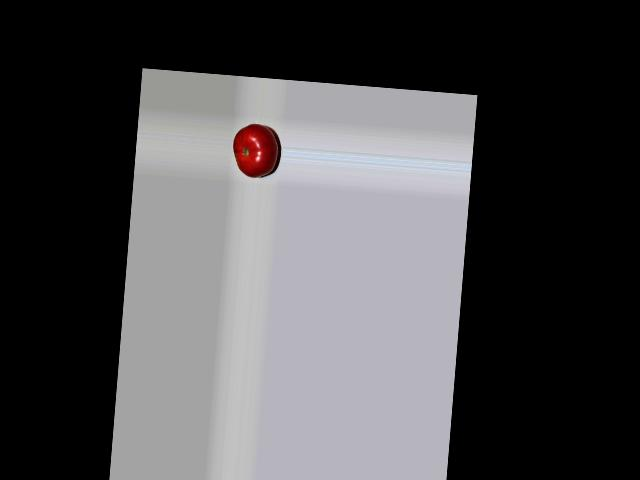tomato: (230, 121, 279, 179)
